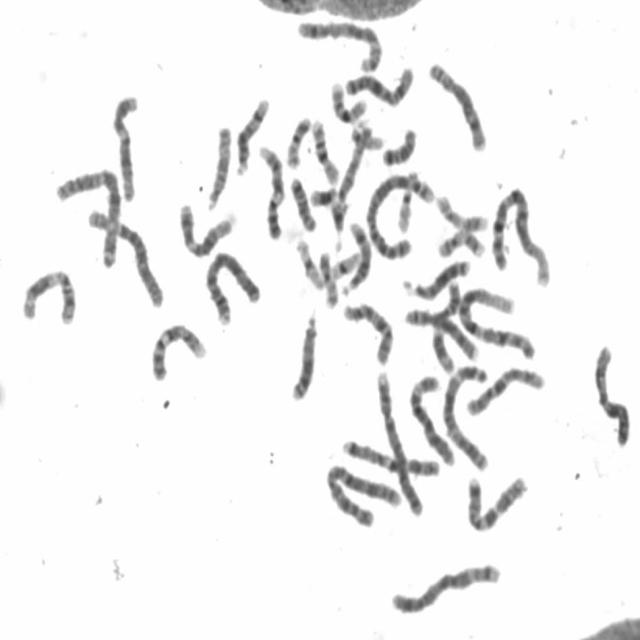A1: (486, 180, 554, 288), (453, 278, 538, 361)
A2: (362, 164, 432, 261), (320, 456, 406, 529)
A3: (50, 161, 123, 269), (437, 357, 491, 471)
B4: (371, 365, 425, 518), (200, 244, 262, 327)
B5: (387, 556, 503, 617), (292, 12, 384, 74)
C10: (461, 360, 547, 418), (337, 294, 396, 366)
C11: (17, 261, 78, 327), (428, 274, 463, 375)
C12: (173, 196, 236, 259), (108, 87, 140, 203)
C6: (83, 203, 166, 310), (404, 367, 457, 467)
C7: (338, 432, 442, 479), (462, 467, 530, 534)
C8: (423, 53, 489, 154), (399, 302, 480, 362)
C9: (146, 316, 209, 383), (254, 138, 286, 242)
D13: (399, 252, 472, 300), (286, 306, 320, 403)
D14: (230, 90, 272, 178), (337, 215, 372, 296)
D15: (331, 125, 374, 212), (201, 117, 233, 213)
E16: (306, 111, 341, 185), (326, 74, 369, 125)
E17: (431, 186, 490, 234), (433, 223, 488, 260)
E18: (286, 170, 318, 232), (378, 120, 418, 168)
F19: (291, 231, 326, 291), (328, 244, 361, 281)
F20: (281, 109, 313, 170), (314, 245, 340, 309)
G21: (326, 194, 350, 252), (305, 178, 340, 208)
G22: (346, 114, 386, 151), (392, 178, 416, 235)
X: (588, 338, 632, 448), (340, 60, 416, 109)
